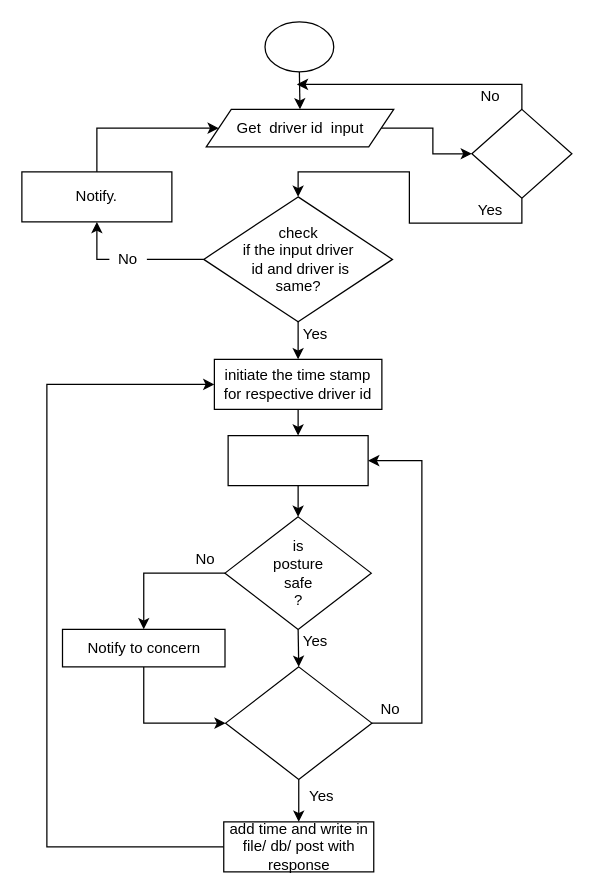
Image size: 594x895. Some labels were removed from this diagram. The shapes that lost their labels are listed below. From the top down, each one's box as (x1, y1, x2, y2) in pixels, then its label:
(264, 21, 334, 72): Start
(471, 108, 572, 198): is id valid ?
(227, 434, 368, 486): Classify/Detect driver's posture
(224, 666, 372, 779): is time period is 15 minutes ?
